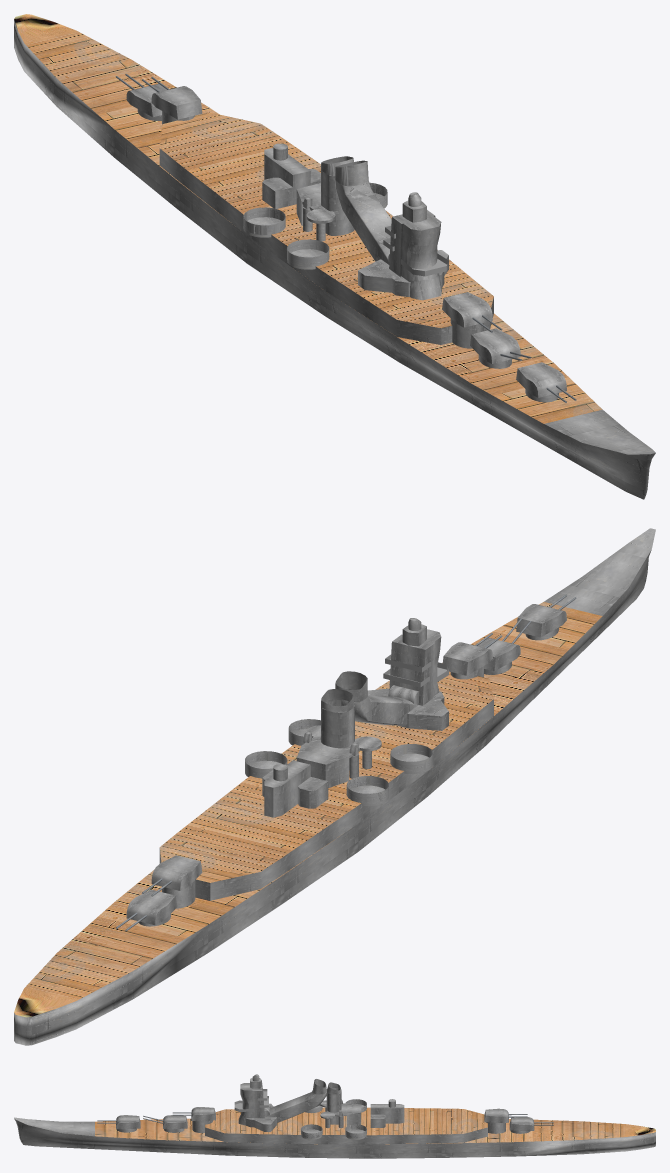
The model's file is Mogami.fbx.
3 views of the same model, one above another, from view 1: azimuth 30°, elevation 25°; view 2: azimuth 150°, elevation 25°; view 3: azimuth 270°, elevation 25° (orthographic). The views are drawn at different scales.
Parts seen in each view (by area): view 1: pCube24; view 2: pCube24; view 3: pCube24.
Boxes of the visible parts, x1=… form: pCube24: x1=14, y1=14, x2=655, y2=499; pCube24: x1=14, y1=528, x2=655, y2=1045; pCube24: x1=14, y1=1074, x2=655, y2=1158.
Size of the model in its own units: 2.55 by 2.41 by 20.1.
Materials: 4 (3 with a texture image).
